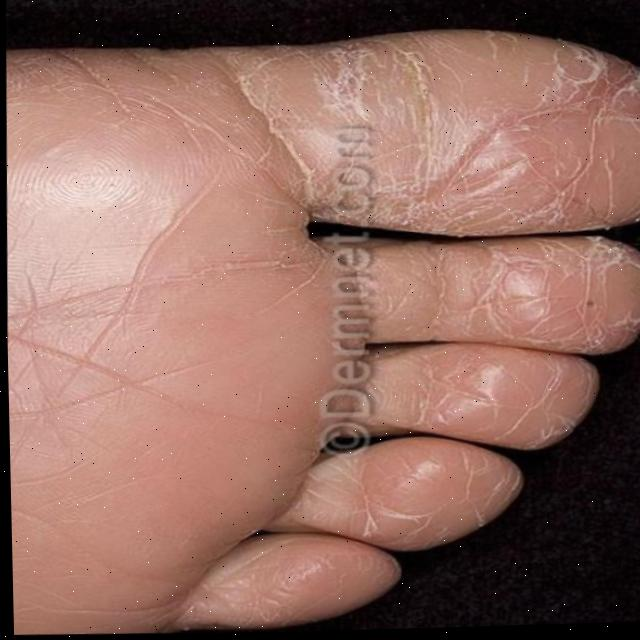Eczema: (132, 48, 640, 596)
